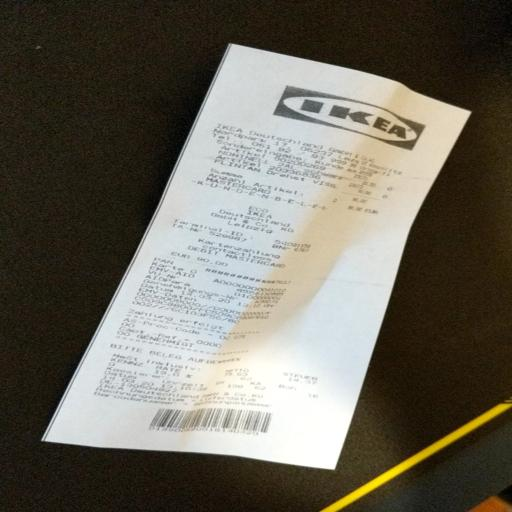paper: (12, 0, 512, 510)
